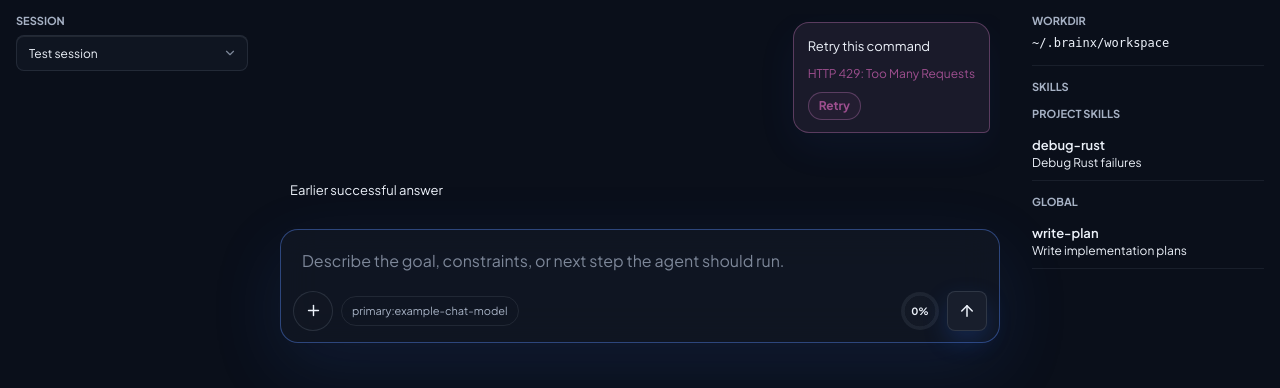
Test case: chat interaction polish › removes the failed user bubble before retrying that message
This screenshot has width=1280, height=388.
Click the dropdown named "Chat sessions": [132, 53] box x1=16 y1=35 x2=248 y2=71
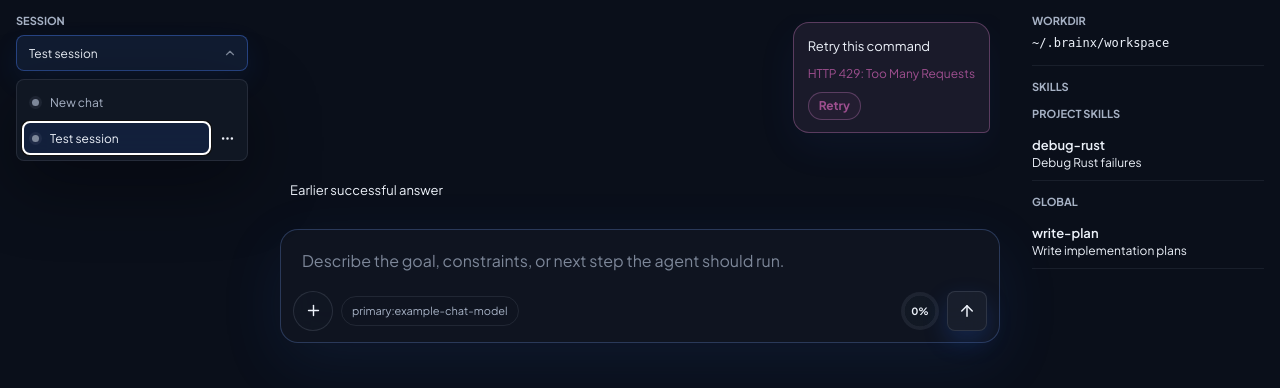
Click the option "Test session": [116, 138] box x1=23 y1=122 x2=210 y2=154
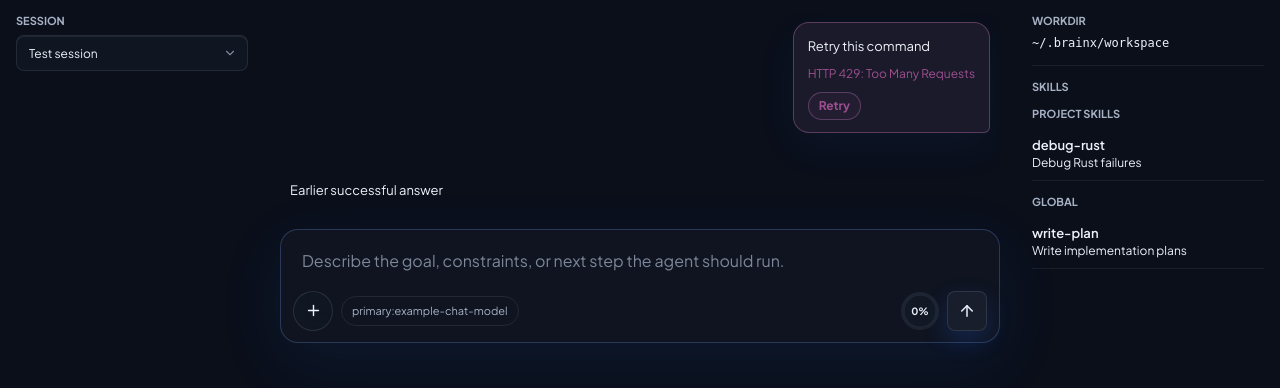
Click the button with aria-label "Retry message": [834, 106] box x1=808 y1=92 x2=861 y2=120
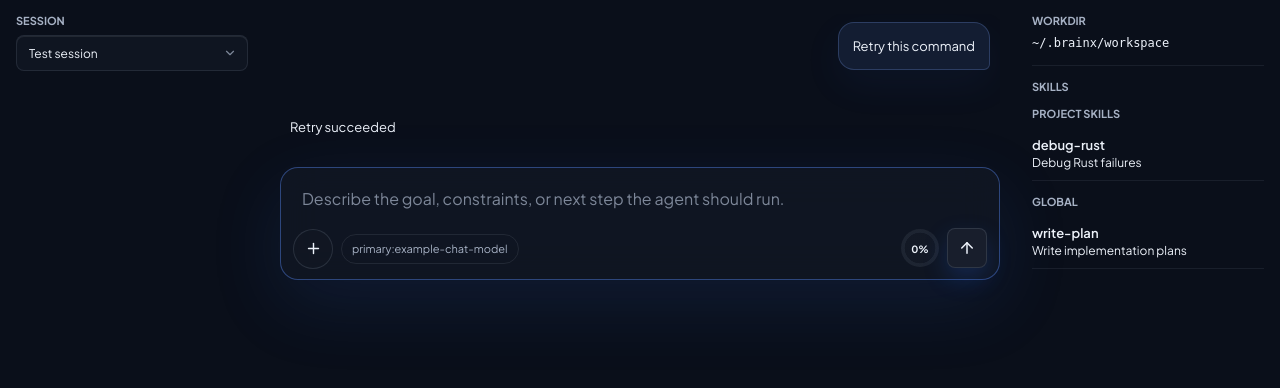
Check: the text "Retry this command" is shown once, box x1=853 y1=35 x2=975 y2=58
Check: the text "Retry succeeded" is shown, box x1=290 y1=120 x2=396 y2=136
Check: the text "HTTP 429: Too Many Requests" is gone
